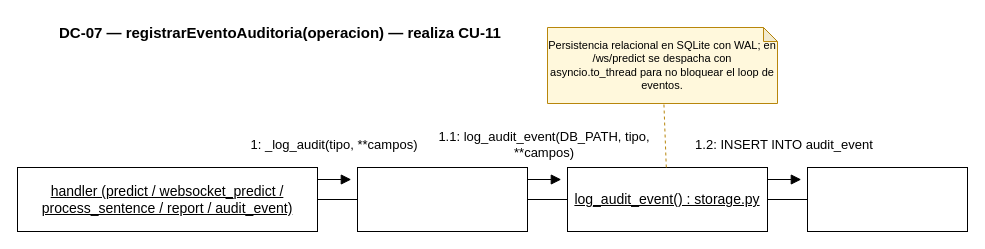
The diagram is 985 pixels wide and 249 high, and some of its shapes have lost their labels. The box of each missing label's shape, as (x1, y1, x2, y2) in pixels:
_log_audit() : app.py: (356, 166, 528, 232)
data/lsa_salud.db (audit_event): (806, 166, 968, 232)
